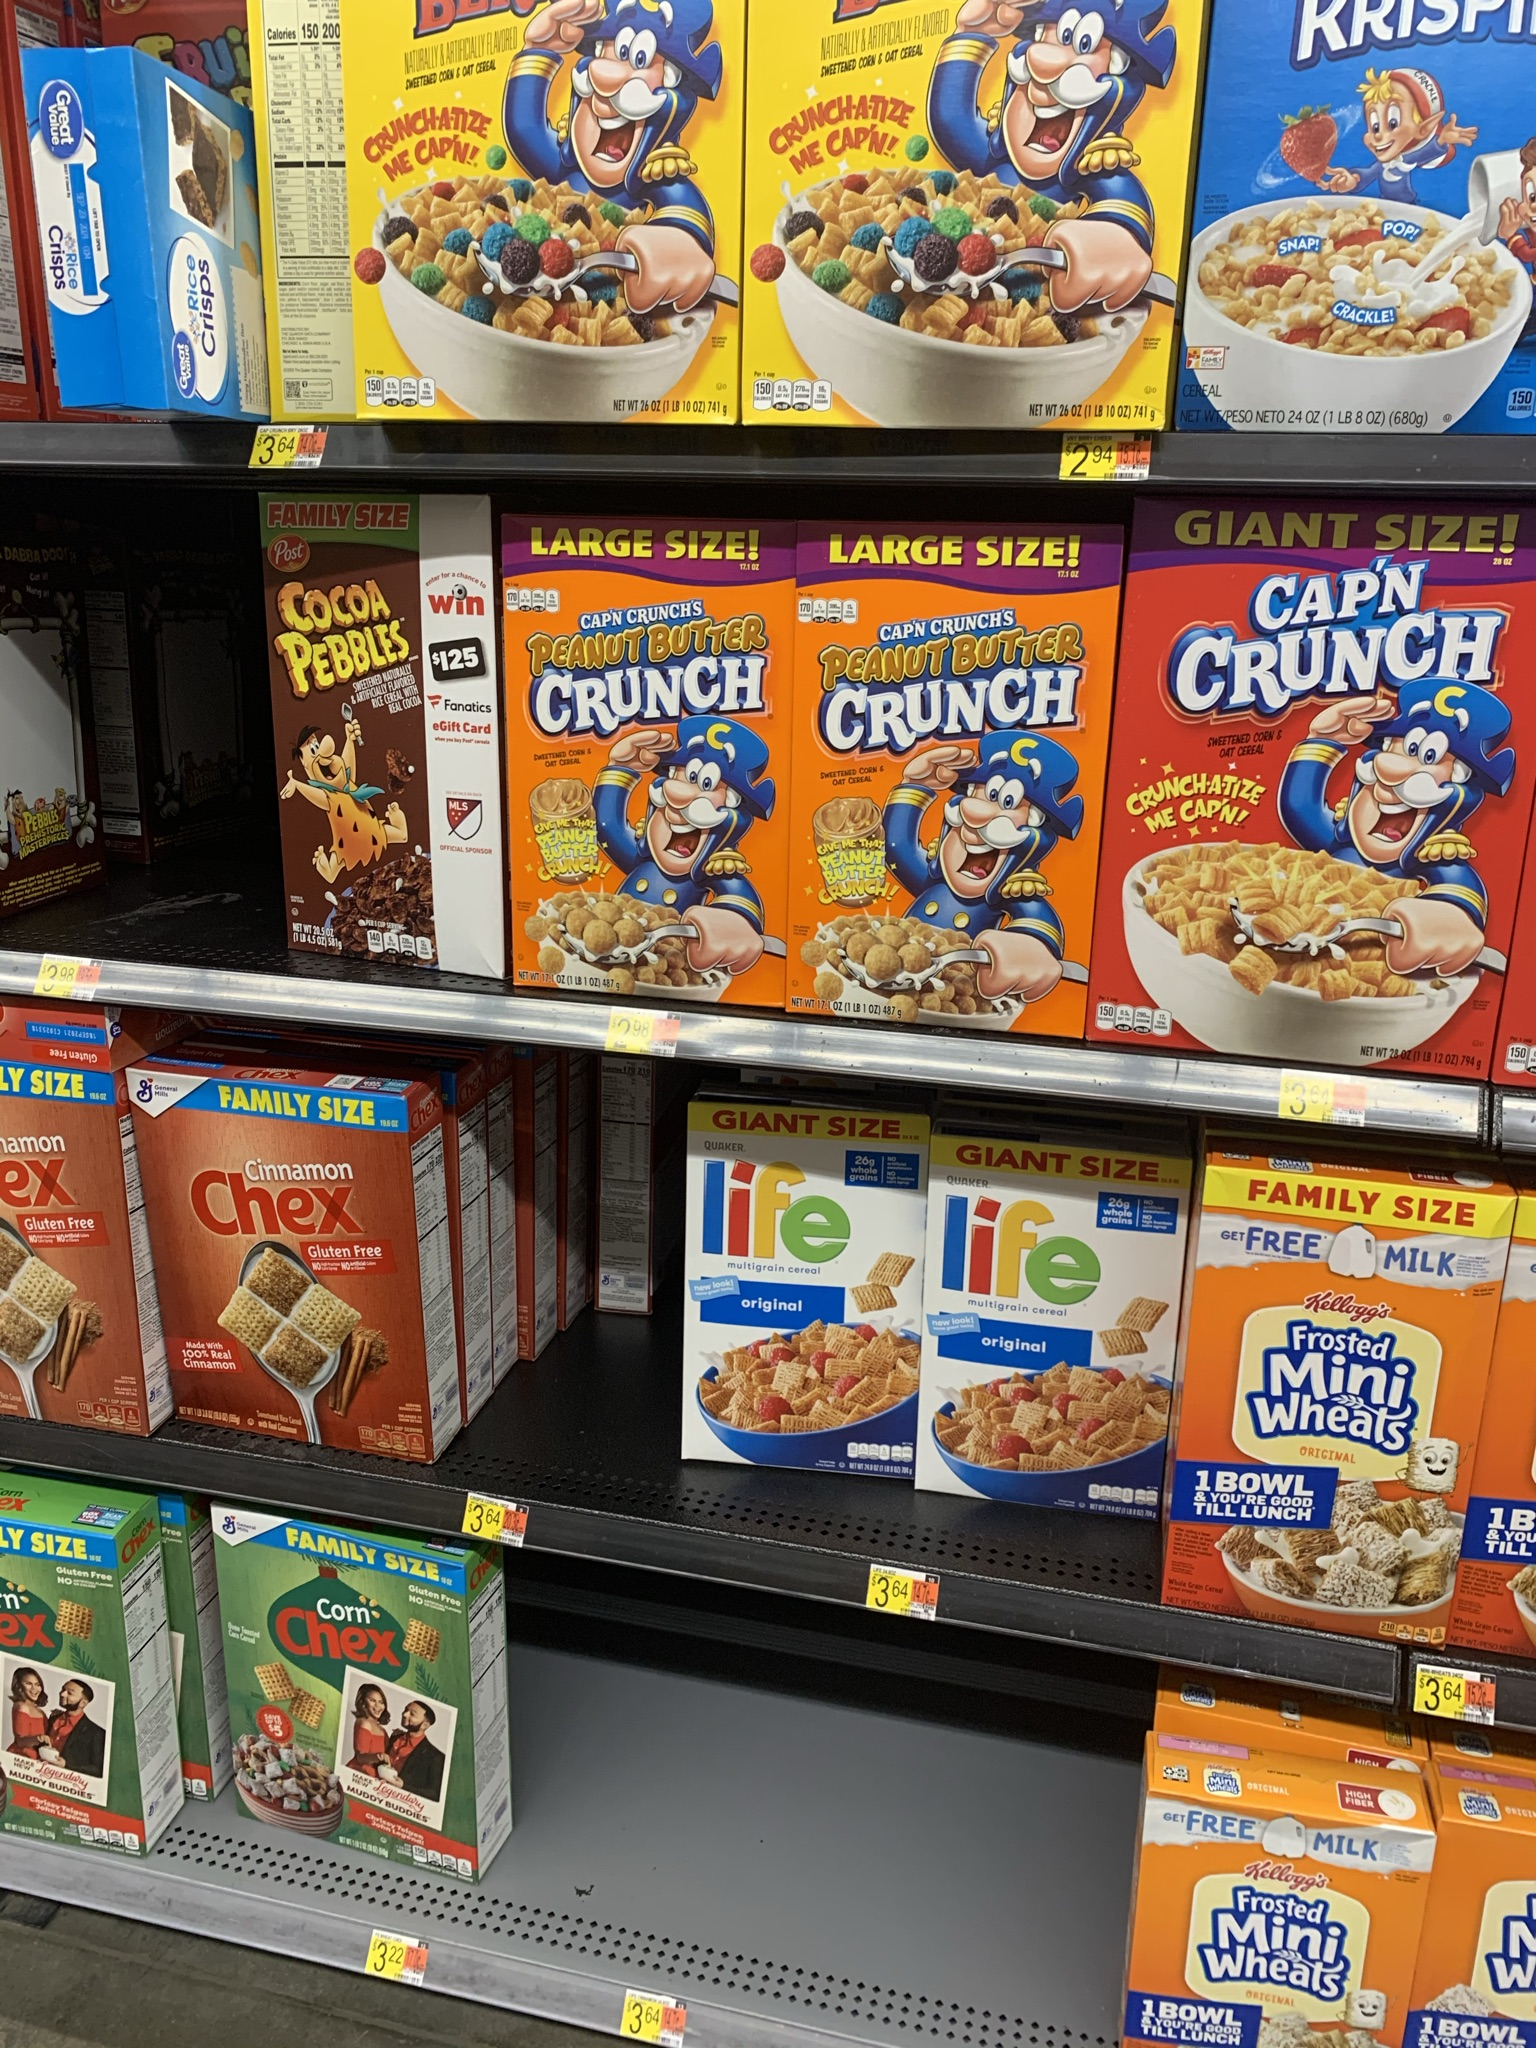Cereal: (1125, 490, 1533, 1063), (344, 2, 741, 432), (797, 519, 1096, 1034), (1197, 5, 1533, 424), (499, 514, 781, 1006)
